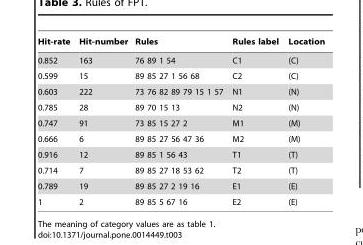table: (37, 36, 324, 206)
table column: (130, 36, 226, 206), (73, 36, 130, 206), (226, 36, 282, 206), (282, 36, 324, 206), (37, 36, 73, 206)
table column header: (37, 36, 324, 50)
table row: (37, 50, 324, 67), (37, 67, 324, 83), (37, 83, 324, 99), (37, 99, 324, 115), (37, 130, 324, 146), (37, 146, 324, 162), (37, 162, 324, 178), (37, 115, 324, 130), (37, 178, 324, 193), (37, 36, 324, 50), (37, 193, 324, 206)
